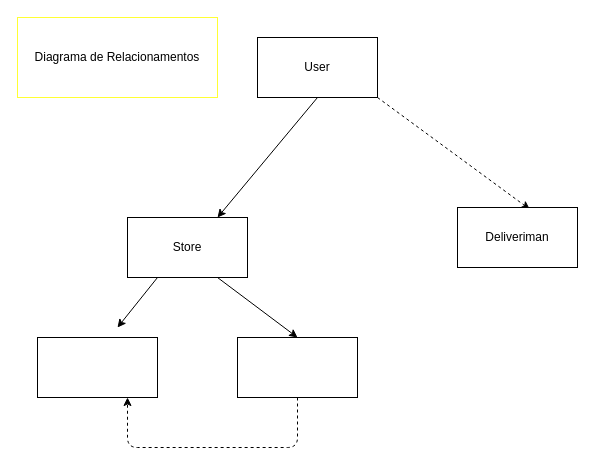
Image size: 595x473. Some labels were removed from this diagram. The centre of each missing label's shape, as x and y in pixels:
Colect: the point at 297,367
Order: the point at 97,367
